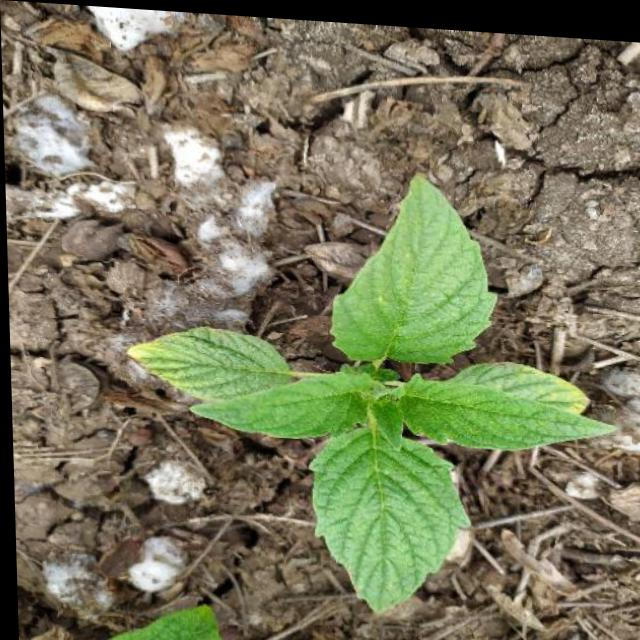crop: (113, 146, 616, 633)
